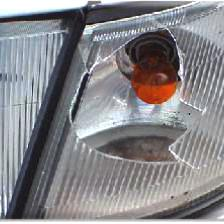head_lamp: (66, 13, 206, 177)
